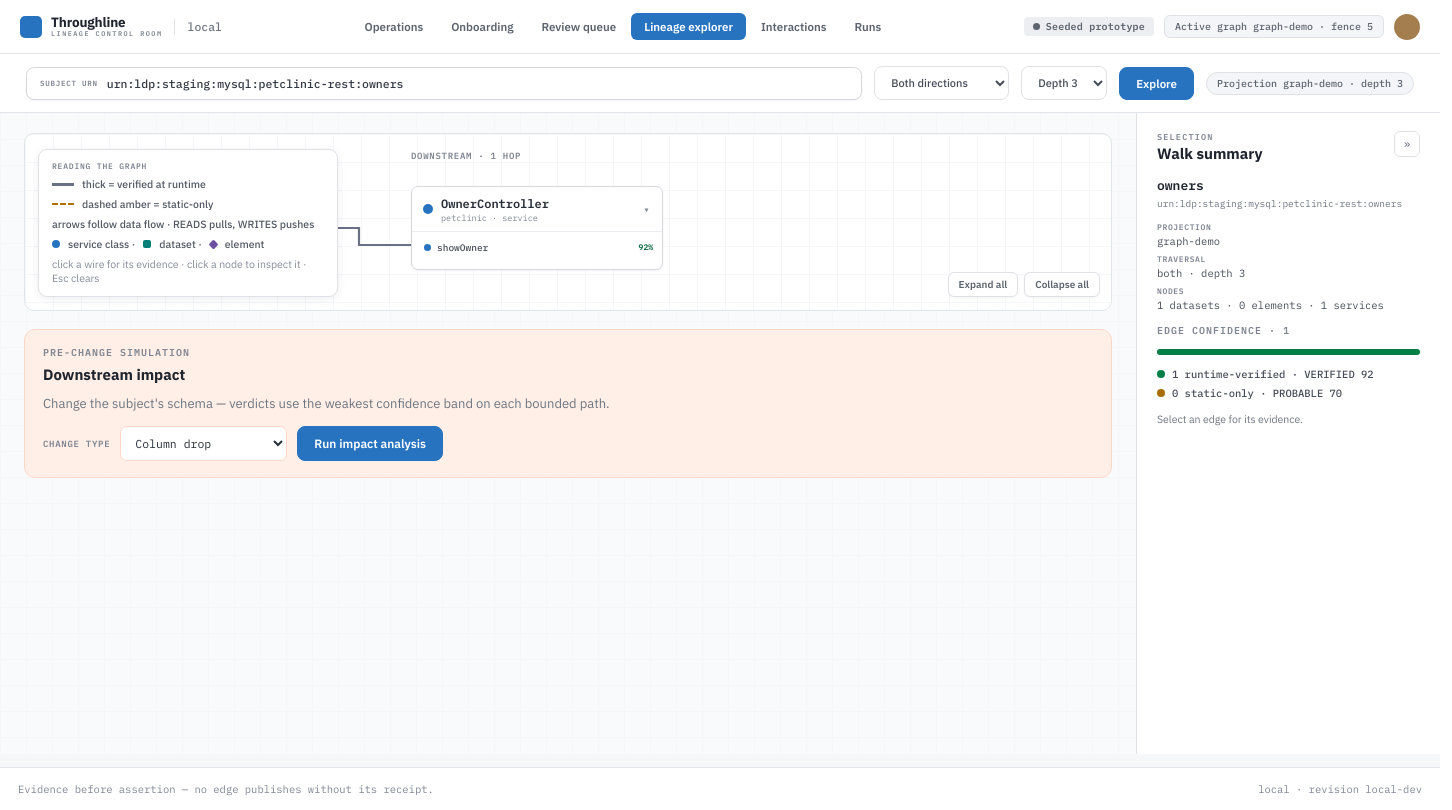
it: clicking a node selects it; the walk re-roots via the inspector action
What coordinates should you click on to do the following:
click the button with aria-label "Select node OwnerController#showOwner"
I would click on:
 (537, 247)
Its box is [412,232,662,262].
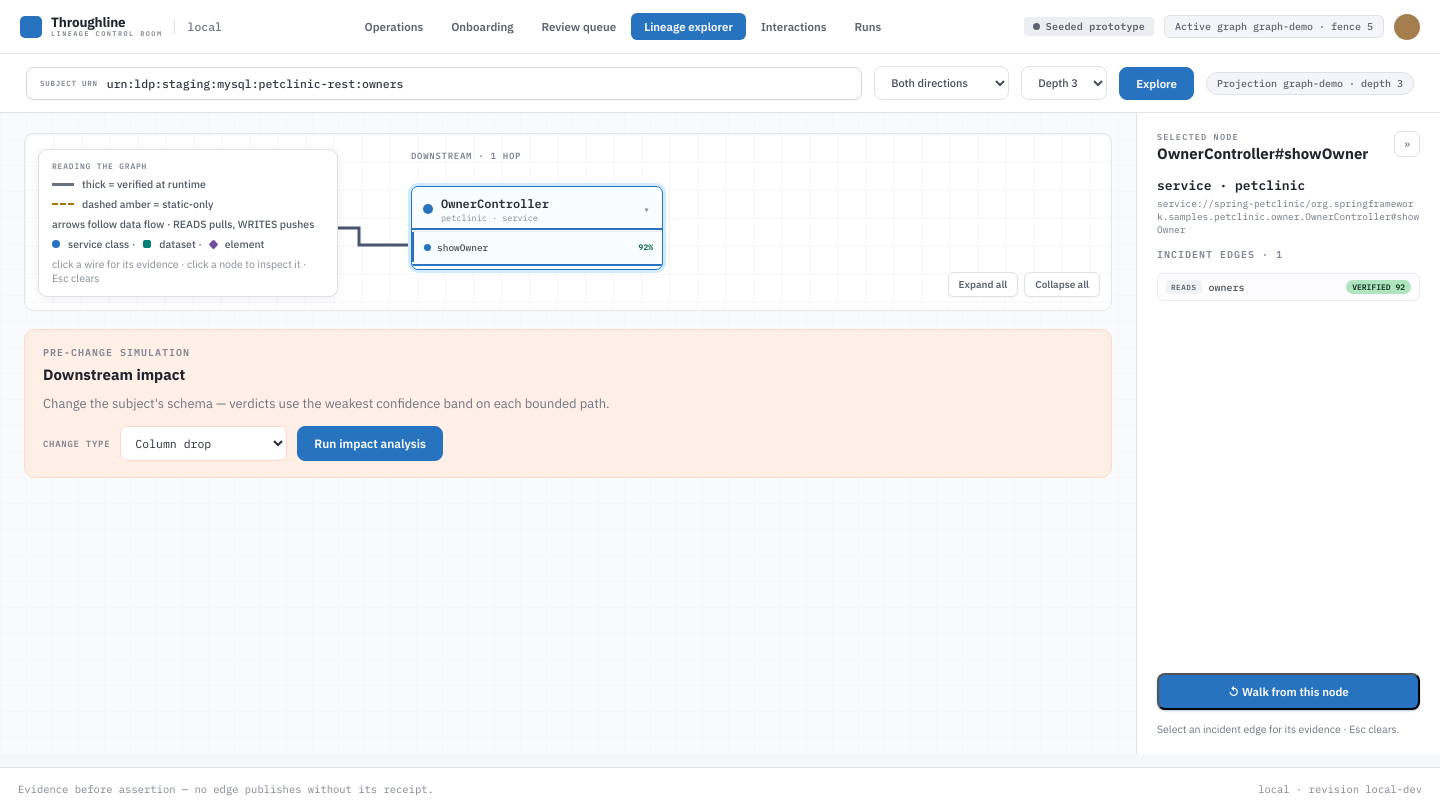
Result: the heading "OwnerController#showOwner" is shown at [1157,142,1368,165]
Result: the text "Incident edges · 1" is shown at [1157,248,1283,261]
The explicit action re-roots the walk on the selected node.
What coordinates should you click on to do the following:
click the button "↺ Walk from this node"
I would click on:
 (1288, 692)
Its box is [1157,673,1420,710].
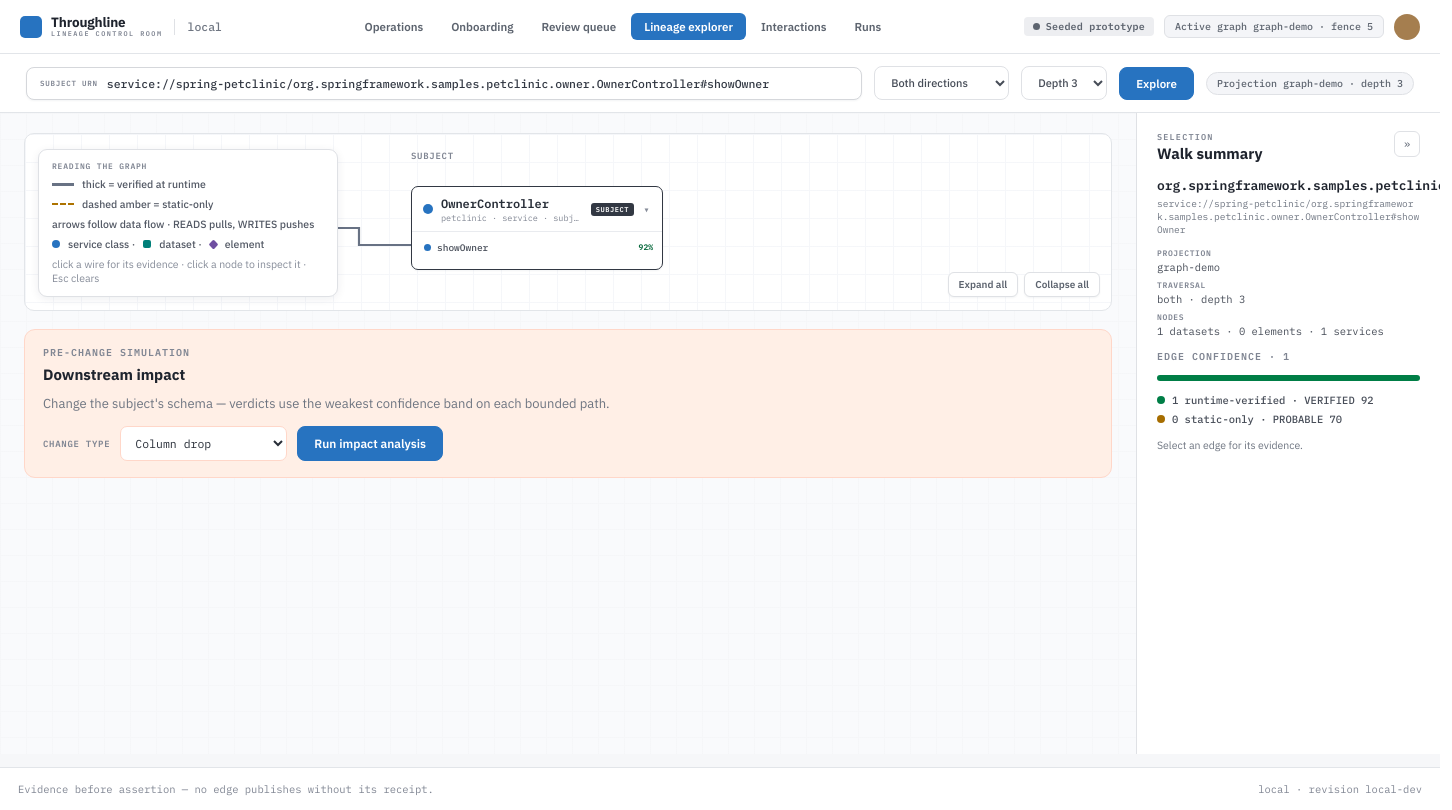
Result: the field labelled "Subject URN" holds "service://spring-petclinic/org.springframework.samples.petclinic.owner.OwnerController#showOwner" at [107,76,848,90]
